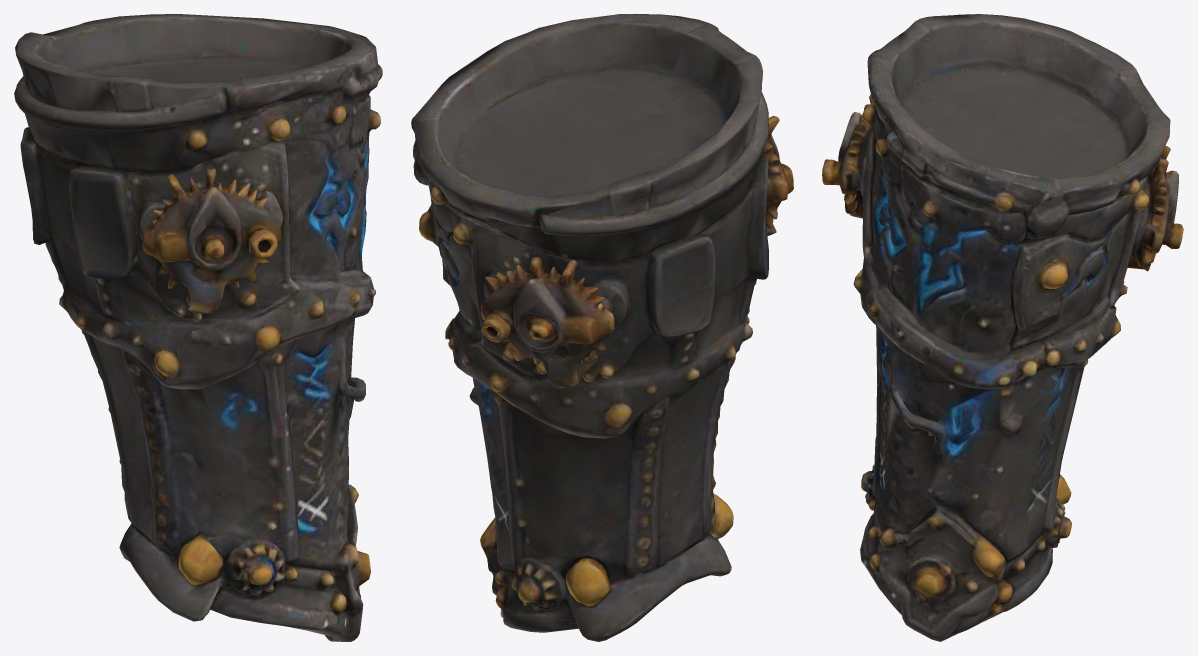
The model's file is artifice-bracal.glb.
The picture shows the model from 3 angles, left to right: view 1: azimuth 30°, elevation 25°; view 2: azimuth 150°, elevation 25°; view 3: azimuth 270°, elevation 25°; orthographic projection. The views are drawn at different scales.
Parts seen in each view (by area): view 1: tripo_node_1e1bae2a-ba0e-4304-8dbd-ad391e5cbb11; view 2: tripo_node_1e1bae2a-ba0e-4304-8dbd-ad391e5cbb11; view 3: tripo_node_1e1bae2a-ba0e-4304-8dbd-ad391e5cbb11.
Part boxes in pixels (left/top/right/bottom): tripo_node_1e1bae2a-ba0e-4304-8dbd-ad391e5cbb11: left=14, top=14, right=382, bottom=641; tripo_node_1e1bae2a-ba0e-4304-8dbd-ad391e5cbb11: left=411, top=14, right=793, bottom=641; tripo_node_1e1bae2a-ba0e-4304-8dbd-ad391e5cbb11: left=822, top=14, right=1183, bottom=641.
Bounding box in the file's own units: 0.5363 × 0.978 × 0.6017.
1 material, 1 textured.
